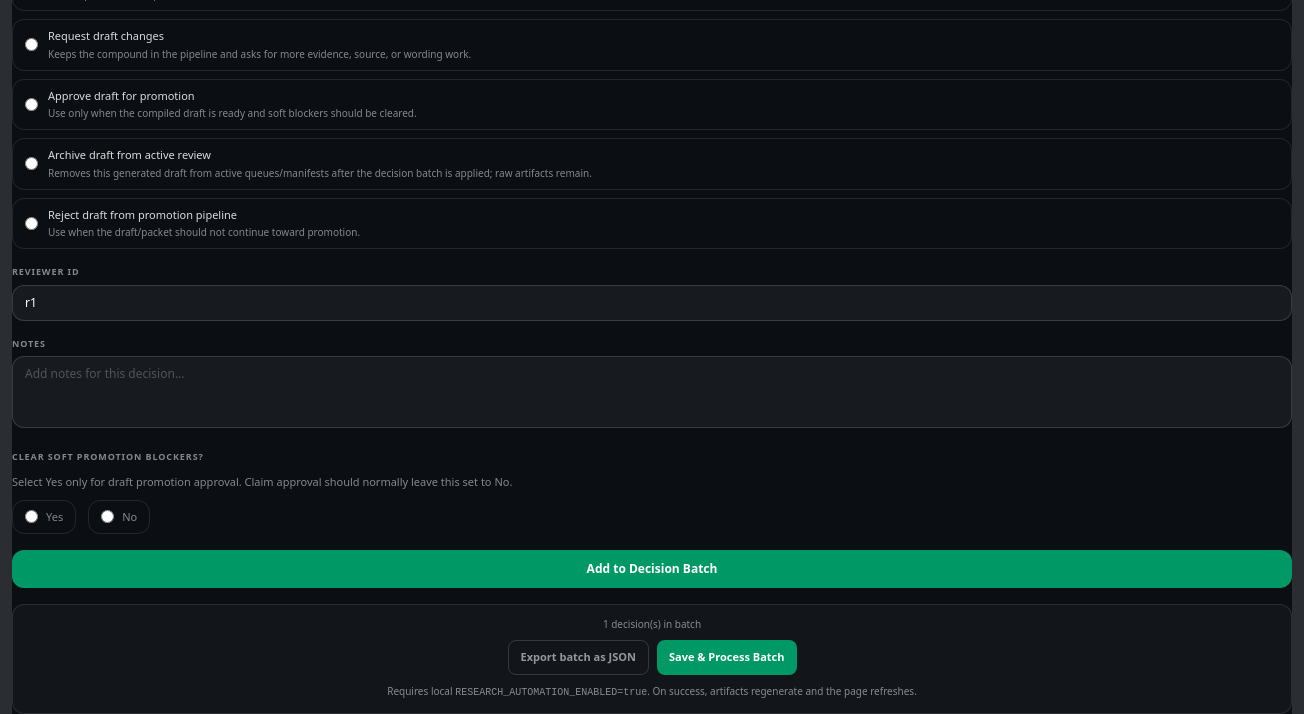
Test: ReviewDecisionForm — review-required compound › saves and processes the current decision batch
The width and height of the screenshot is (1304, 714).
(page scrolled)
Step 1. Click the button "Save & Process Batch" → point(727, 657), box top-left (657, 640), bottom-right (796, 674)
(page scrolled)
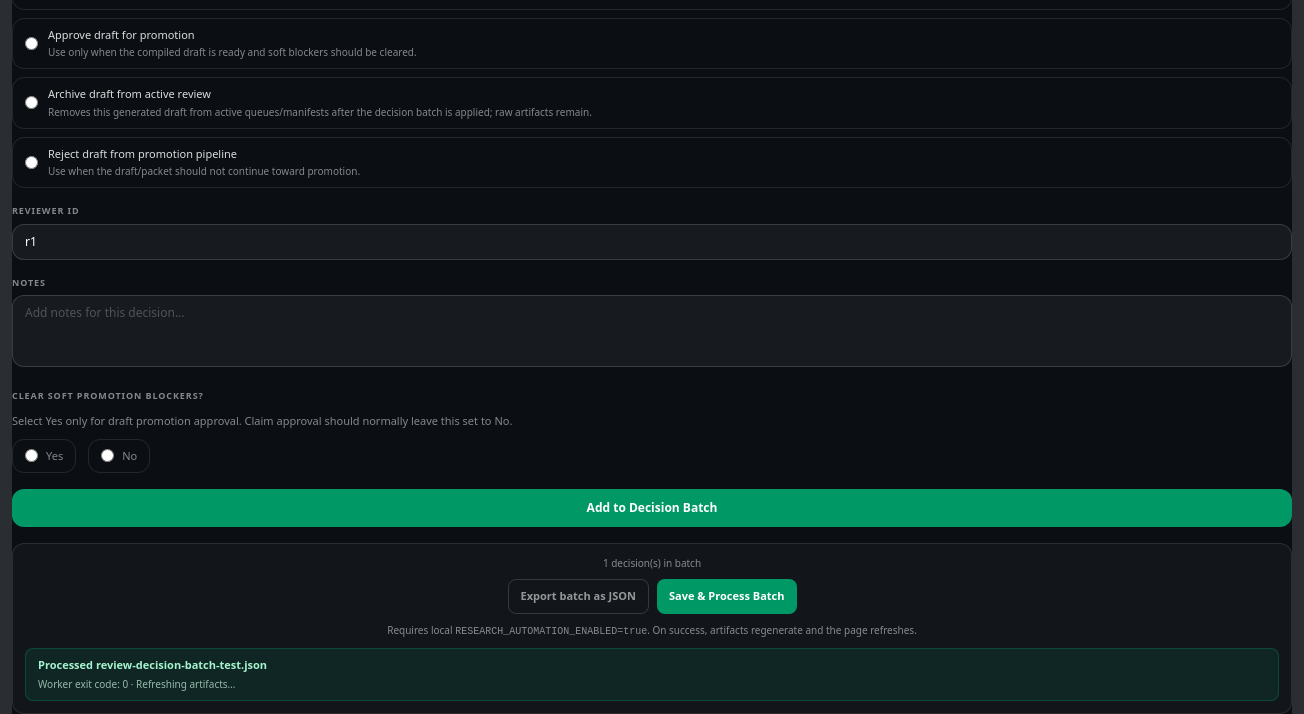
Expected: the text "Processed review-decision-batch-test.json" is shown, top-left (38, 656), bottom-right (267, 672)
